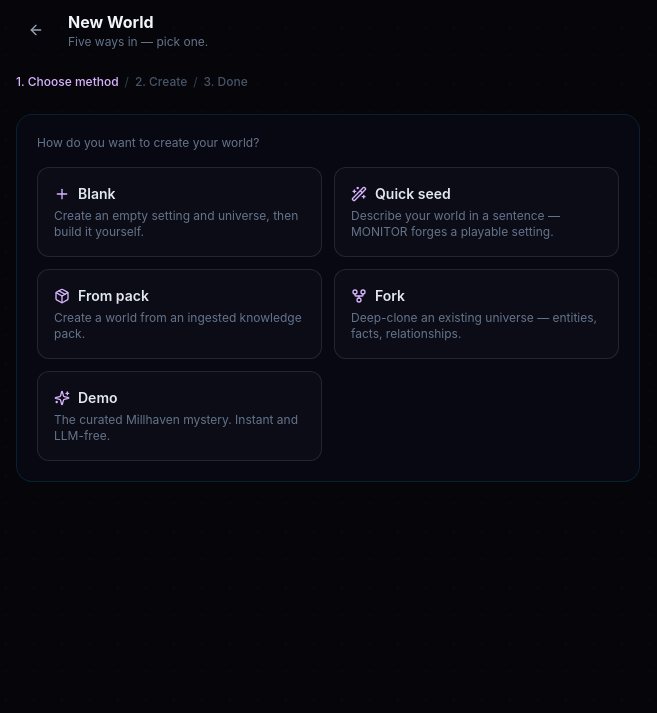
Test: World wizard — method picker › renders all five methods and switches into one
Expected: the button with test id "method-blank" is shown, [37,167,322,257]
Expected: the button with test id "method-pack" is shown, [37,269,322,359]
Click the button with test id "method-quick".
click(476, 212)  # box [334,167,619,257]
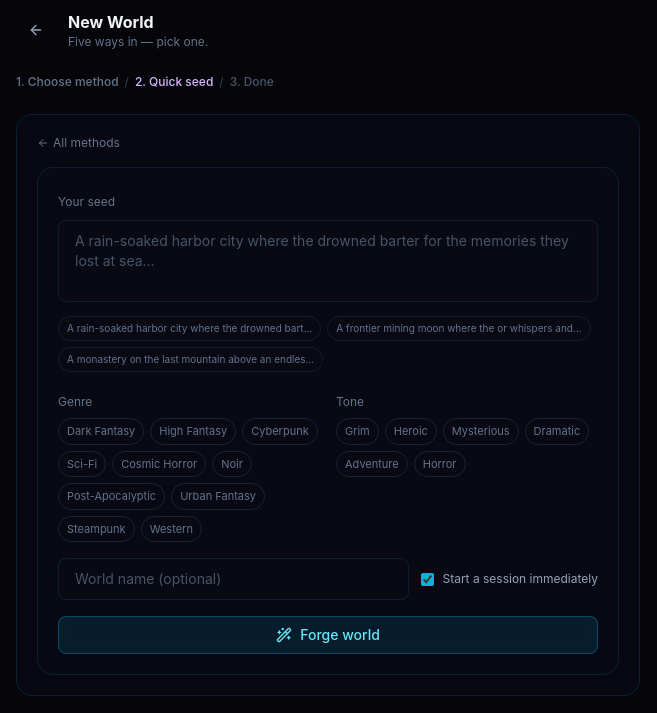
Result: the text "Your seed" is shown at [58,194,115,209]
Click the button "All methods".
click(78, 143)  # box [37,135,120,151]
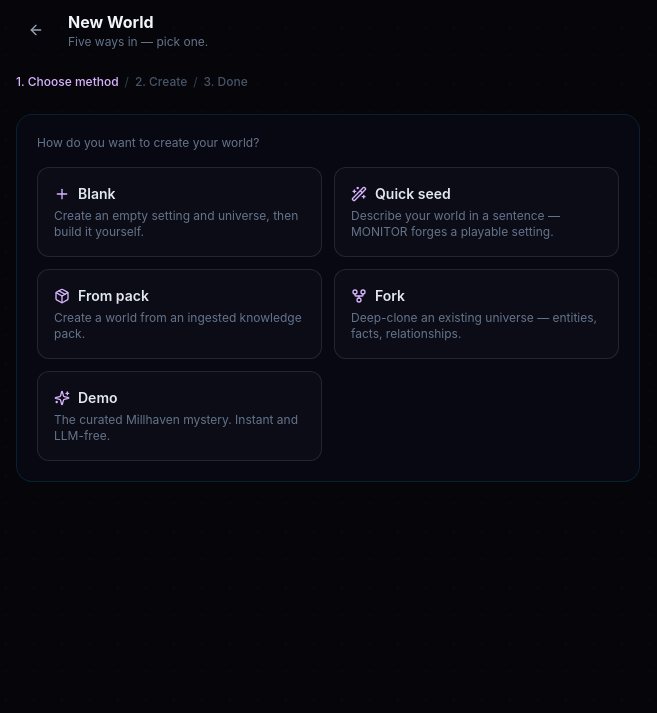
Result: the button with test id "method-blank" is shown at [37,167,322,257]
